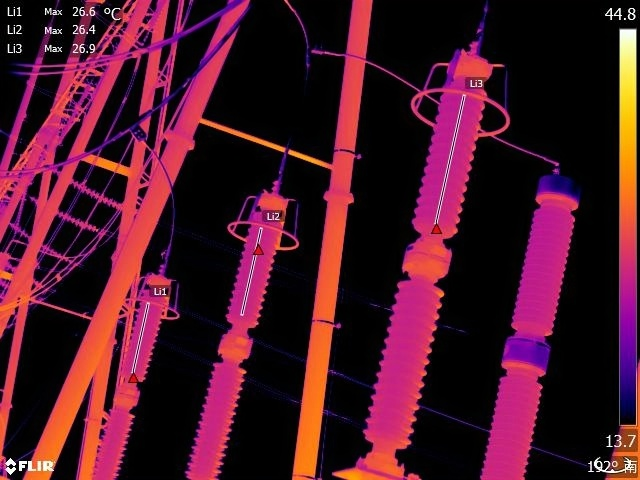insulator: (56, 164, 126, 215), (29, 191, 103, 235), (10, 221, 69, 263)
lightning arrester: (341, 18, 512, 480), (180, 168, 309, 480), (86, 248, 185, 480)
potential transformer: (472, 162, 590, 480)
